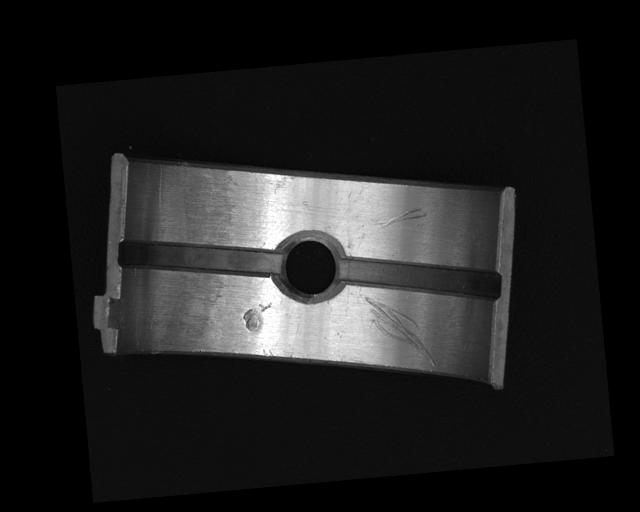bruise: (241, 302, 273, 334)
gap: (338, 244, 502, 312), (117, 226, 281, 285)
hole: (272, 227, 346, 307)
nick: (365, 289, 435, 371), (375, 205, 428, 229)
